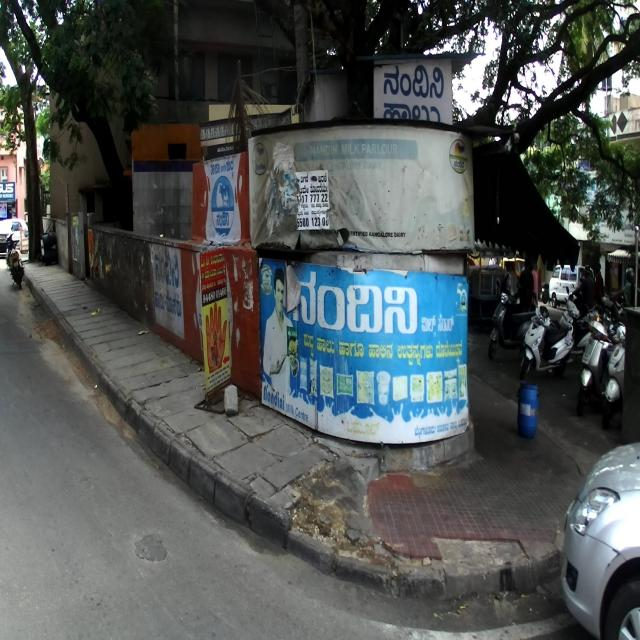Car_Maruti-Suzuki: (556, 434, 640, 634)
scooter: (520, 302, 574, 383), (488, 279, 534, 362), (576, 314, 612, 414)
